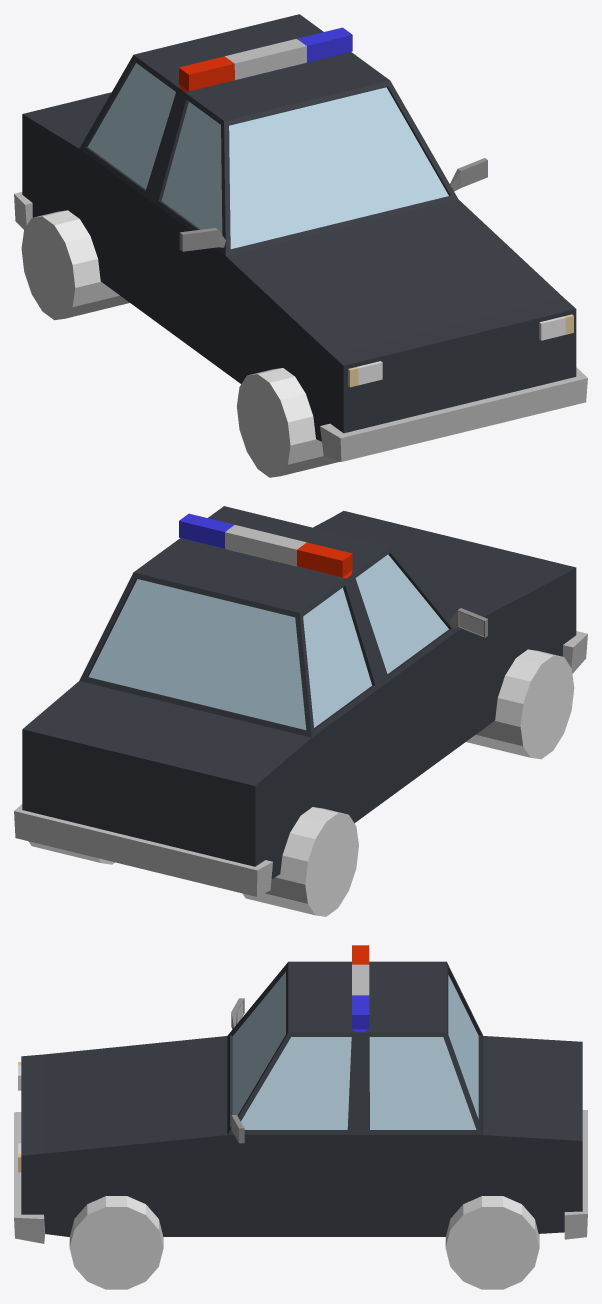
Rendered from Police Car.fbx.
The picture shows the model from 3 angles, top to bottom: view 1: azimuth 30°, elevation 25°; view 2: azimuth 150°, elevation 25°; view 3: azimuth 270°, elevation 25°; orthographic projection. The views are drawn at different scales.
Visible parts, largest first — view 1: Car, Back Wheel cut out, Front Wheel cut out, Mirrors, Head light; view 2: Car, Back Wheel cut out, Front Wheel cut out, Mirrors; view 3: Car, Back Wheel cut out, Front Wheel cut out, Mirrors.
Part boxes in pixels (box(x1,y1,x2,y2)): Car: box(14, 14, 587, 461); Back Wheel cut out: box(21, 210, 129, 320); Front Wheel cut out: box(236, 368, 339, 477); Mirrors: box(179, 158, 487, 251); Head light: box(348, 314, 573, 387); Car: box(14, 506, 587, 896); Back Wheel cut out: box(28, 807, 358, 916); Front Wheel cut out: box(466, 649, 574, 759); Mirrors: box(450, 608, 487, 637); Car: box(14, 945, 587, 1243); Back Wheel cut out: box(445, 1196, 539, 1289); Front Wheel cut out: box(69, 1196, 163, 1289); Mirrors: box(231, 998, 244, 1143).
Bounding box in the file's own units: 262 × 234 × 489.
